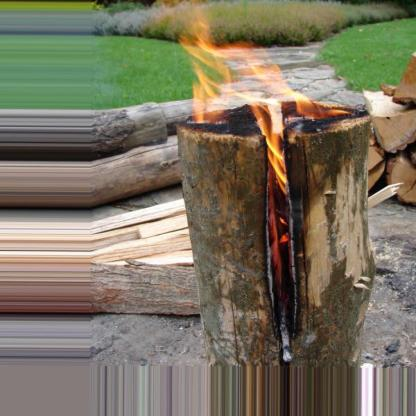fire: (173, 17, 367, 339)
